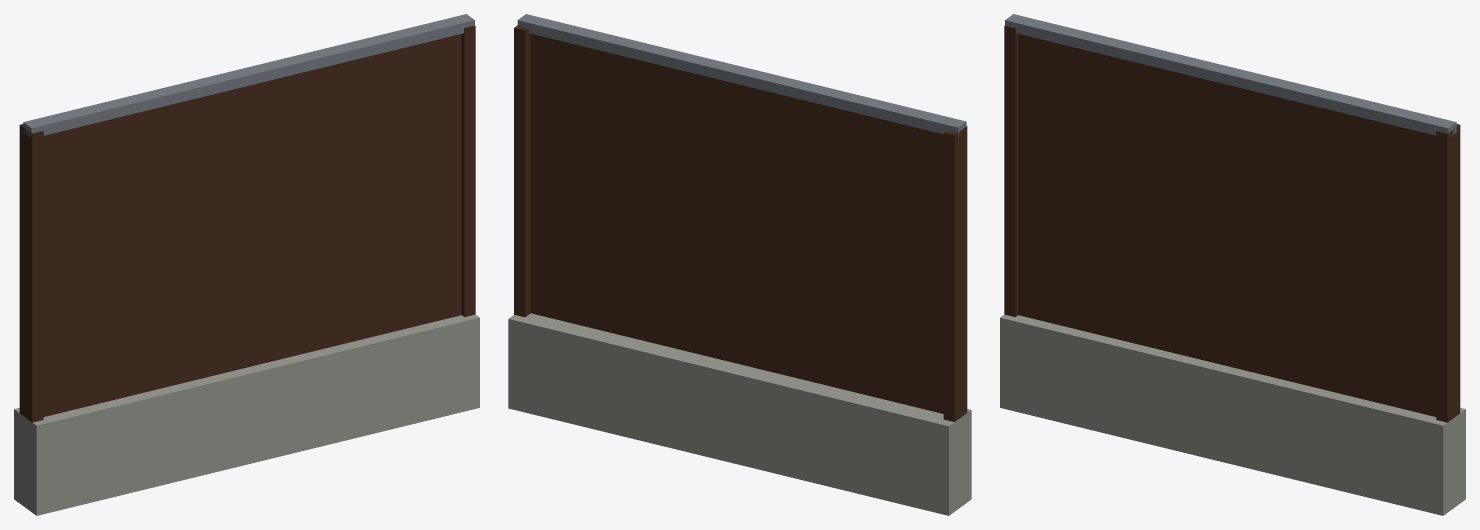
The model's file is fence-w1.fbx.
3 renders of one model, left to right at view 1: azimuth 30°, elevation 25°; view 2: azimuth 150°, elevation 25°; view 3: azimuth 330°, elevation 25°, orthographic.
Visible parts, largest first — view 1: a2000/0/fence-w1; view 2: a2000/0/fence-w1; view 3: a2000/0/fence-w1.
Boxes of the visible parts, bbox=[...] form: a2000/0/fence-w1: bbox=[14, 14, 479, 515]; a2000/0/fence-w1: bbox=[508, 14, 971, 515]; a2000/0/fence-w1: bbox=[1000, 14, 1465, 515].
Bounding box in the file's own units: 1.8 × 1.49 × 0.16.
